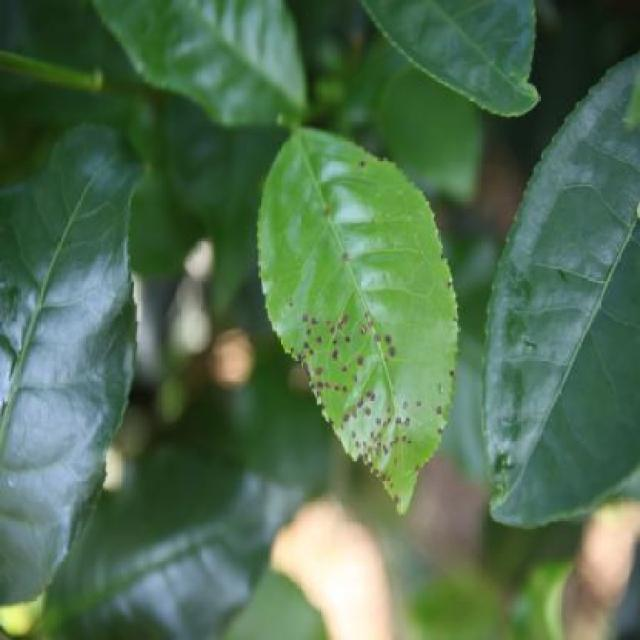Tea Mosquito bug infested leaf: (257, 143, 478, 543)
